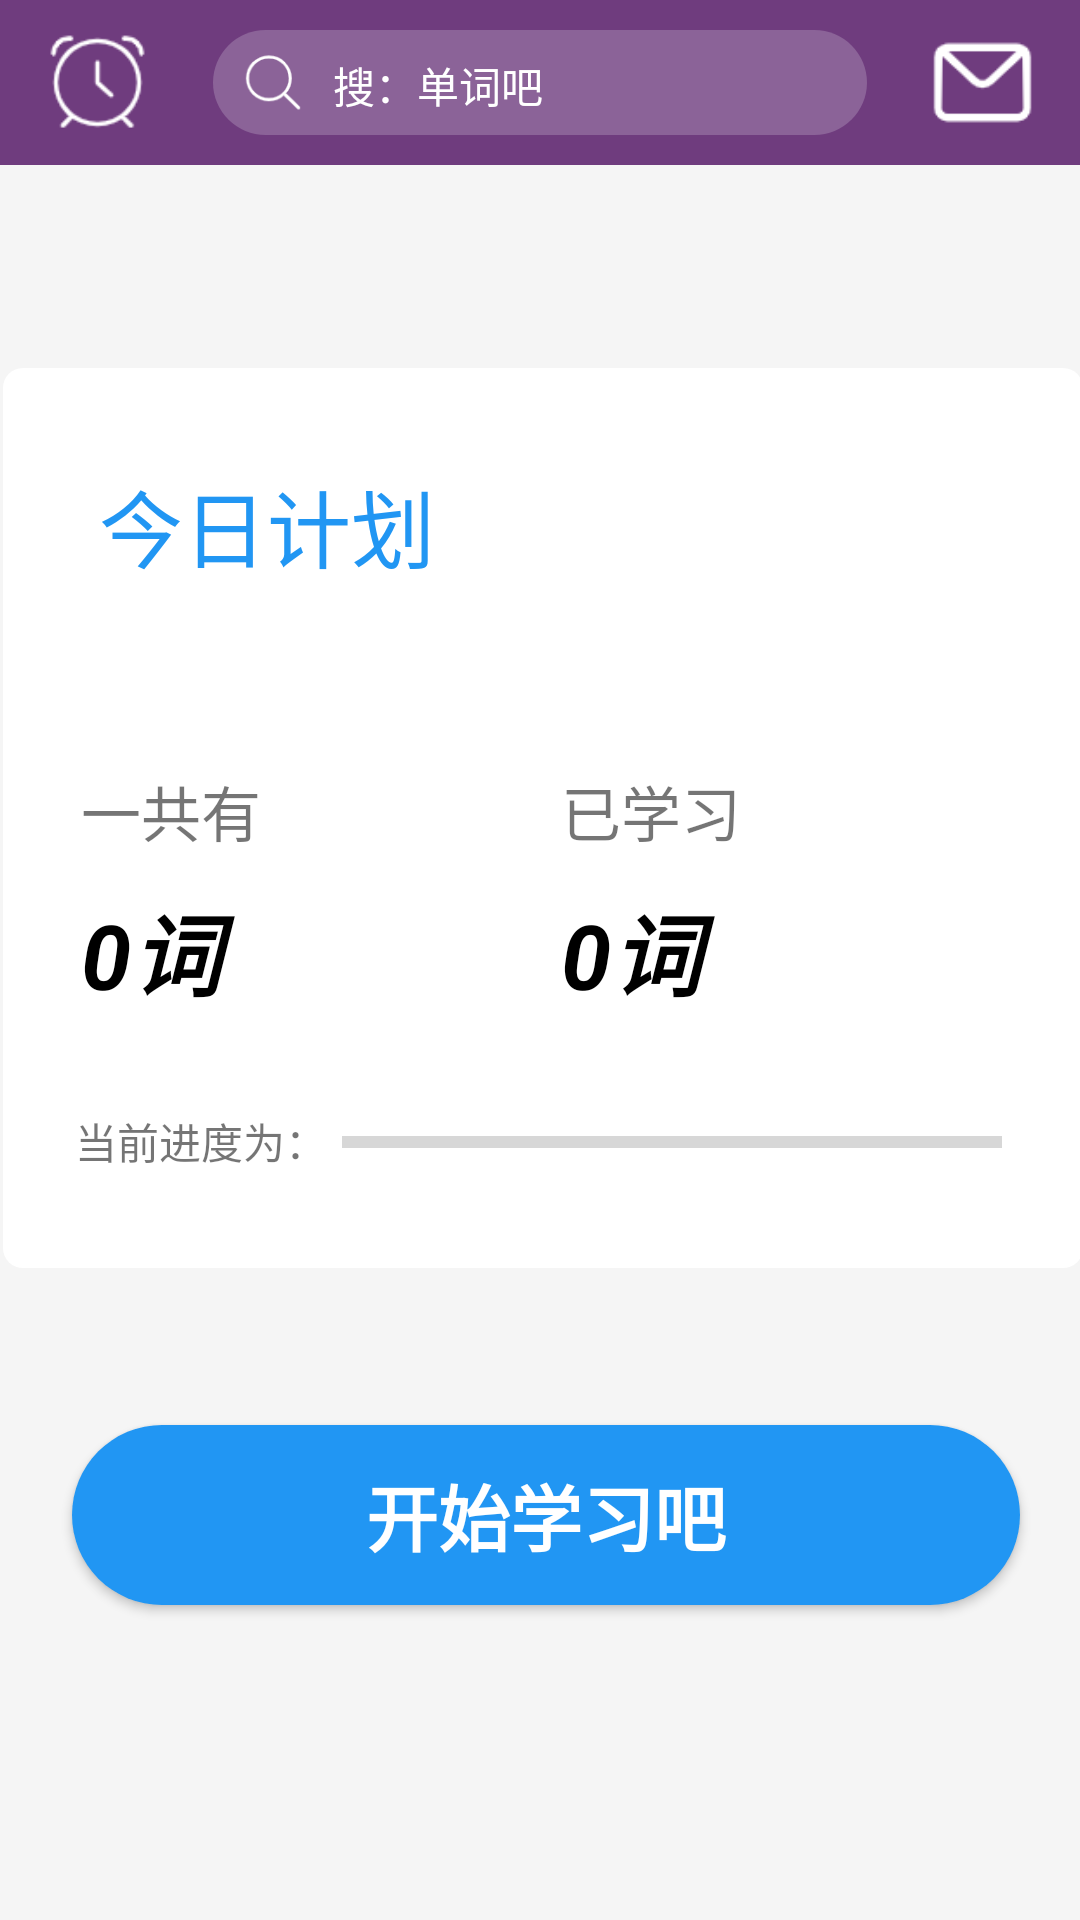

Point at icon controls on the screen. Image size 1080 × 1920, points as point (x, y).
clock: point (97, 81)
email: point (982, 82)
search: point (273, 82)
